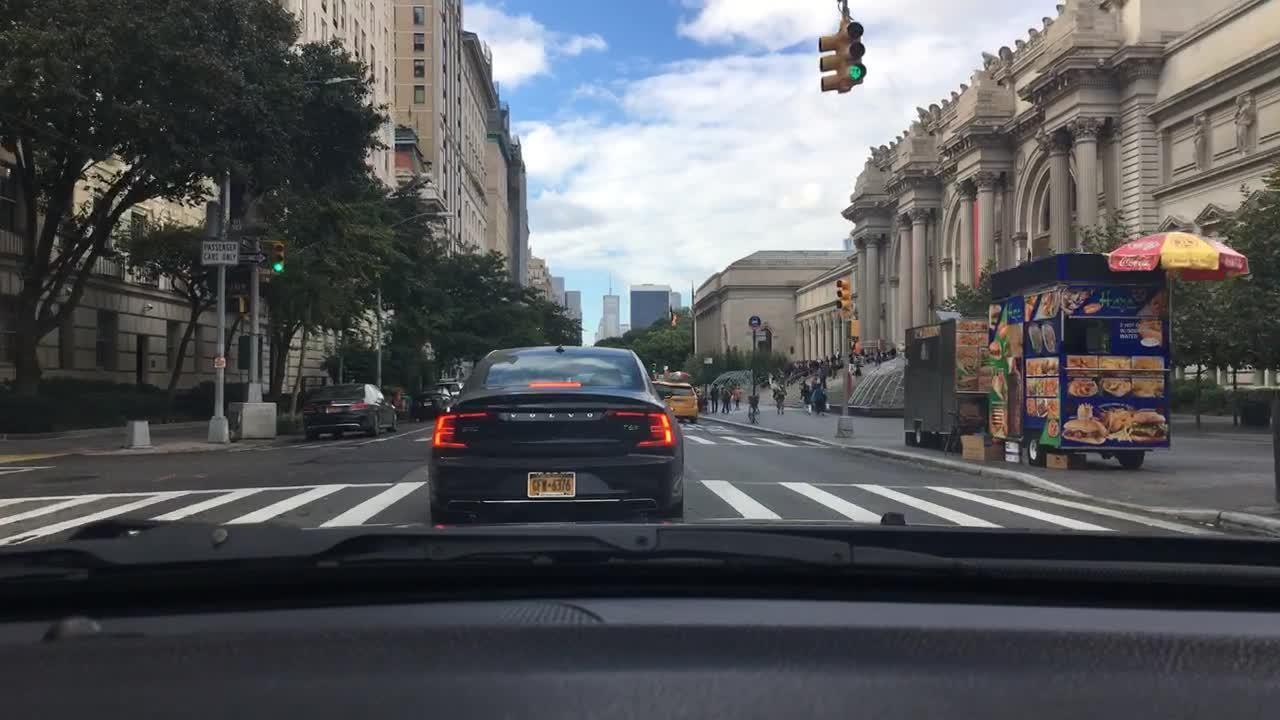volvo: (505, 405, 601, 427)
